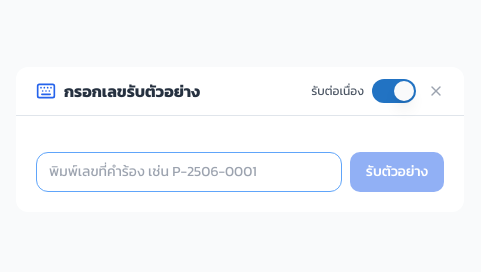
it: round-specific scanners › QC rejects an unauthorized receiver even with valid pending round code
Type "LIS-EXTRA-11111111-1111-4111-8111-111111111111" into the field with placeholder "พิมพ์เลขที่คำร้อง เช่น P-2506-0001". click: (189, 172)
box: [36,152,342,192]
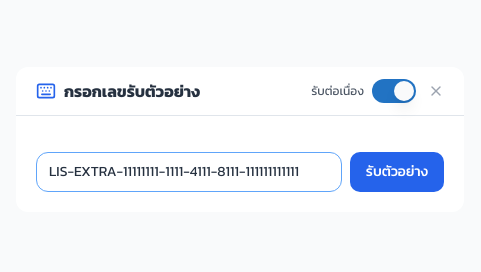
Click the button "รับตัวอย่าง". click: (397, 172)
box: [350,152,444,192]
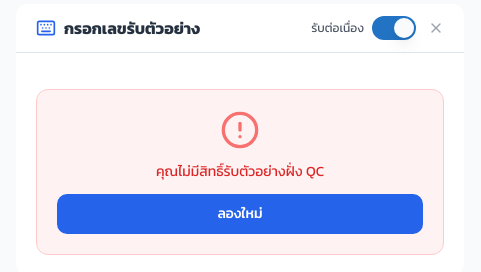
Expected: the text "คุณไม่มีสิทธิ์รับตัวอย่างฝั่ง QC" is shown, [156,160,324,182]
